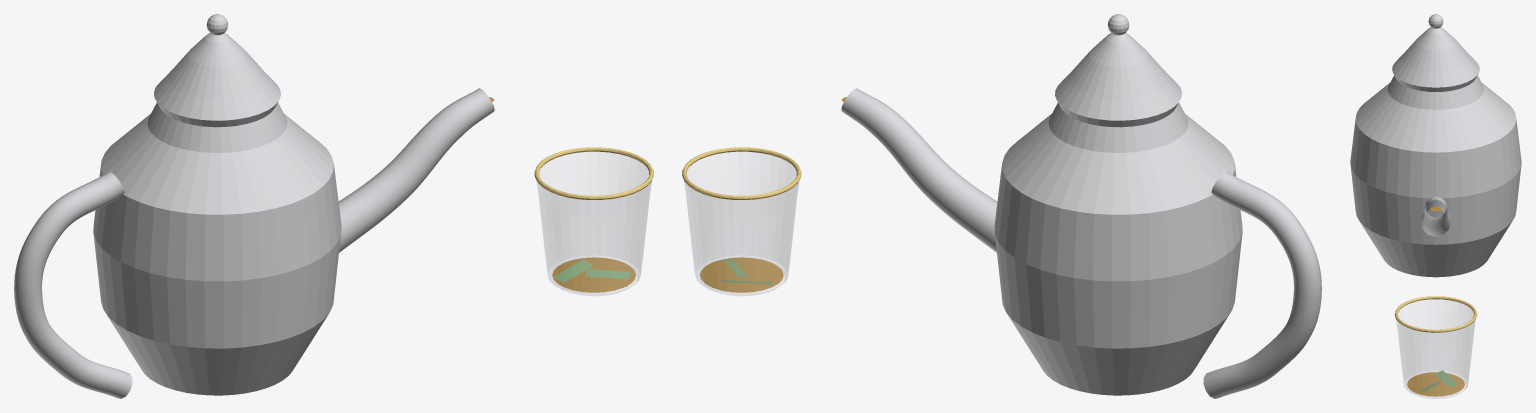
The model's file is teapot-pour.glb.
3 renders of one model, left to right at view 1: azimuth 30°, elevation 25°; view 2: azimuth 150°, elevation 25°; view 3: azimuth 270°, elevation 25°, orthographic. The views are drawn at different scales.
Parts seen in each view (by area): view 1: TeapotBody, TeaGlass, TeapotHandle, TeapotLid, TeapotSpout, TeaLiquid, GlassGoldRim; view 2: TeapotBody, TeaGlass, TeapotHandle, TeapotLid, TeapotSpout, TeaLiquid, GlassGoldRim; view 3: TeapotBody, TeaGlass, TeapotLid, TeaLiquid, TeapotSpout, GlassGoldRim, TeapotFinial, MintLeaf1.
Boxes of the visible parts, box(x1,y1,x2,y2) form: TeapotBody: box(93, 103, 341, 395); TeaGlass: box(536, 152, 651, 295); TeapotHandle: box(14, 171, 132, 398); TeapotLid: box(154, 33, 280, 127); TeapotSpout: box(338, 88, 494, 252); TeaLiquid: box(552, 257, 635, 292); GlassGoldRim: box(534, 147, 653, 199); TeapotBody: box(994, 103, 1242, 395); TeaGlass: box(684, 152, 799, 295); TeapotHandle: box(1203, 171, 1321, 398); TeapotLid: box(1055, 33, 1181, 127); TeapotSpout: box(841, 88, 997, 252); TeaLiquid: box(700, 257, 783, 292); GlassGoldRim: box(682, 147, 801, 199); TeapotBody: box(1350, 75, 1521, 277); TeaGlass: box(1396, 299, 1475, 398); TeapotLid: box(1392, 27, 1479, 91); TeaLiquid: box(1407, 372, 1464, 396); TeapotSpout: box(1421, 196, 1450, 236); GlassGoldRim: box(1394, 296, 1477, 332); TeapotFinial: box(1428, 14, 1443, 28); MintLeaf1: box(1435, 370, 1457, 387).
Bounding box in the file's own units: 0.4682 × 0.2546 × 0.16.
